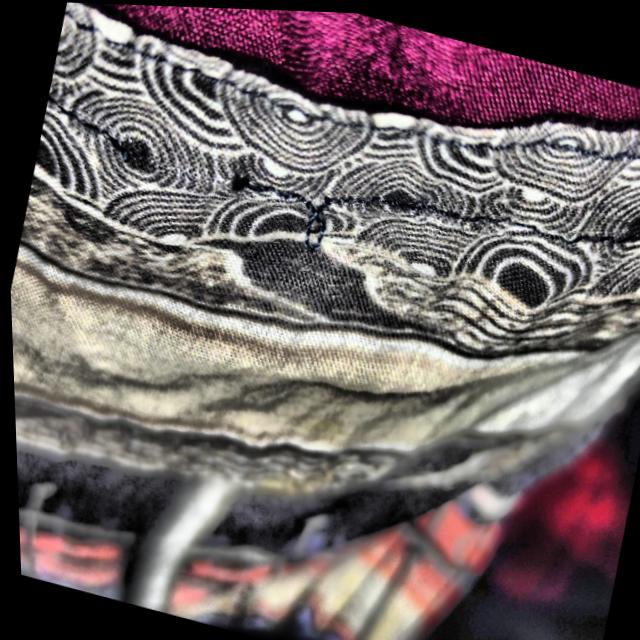Stitch: (72, 102, 283, 239), (281, 167, 366, 287)
